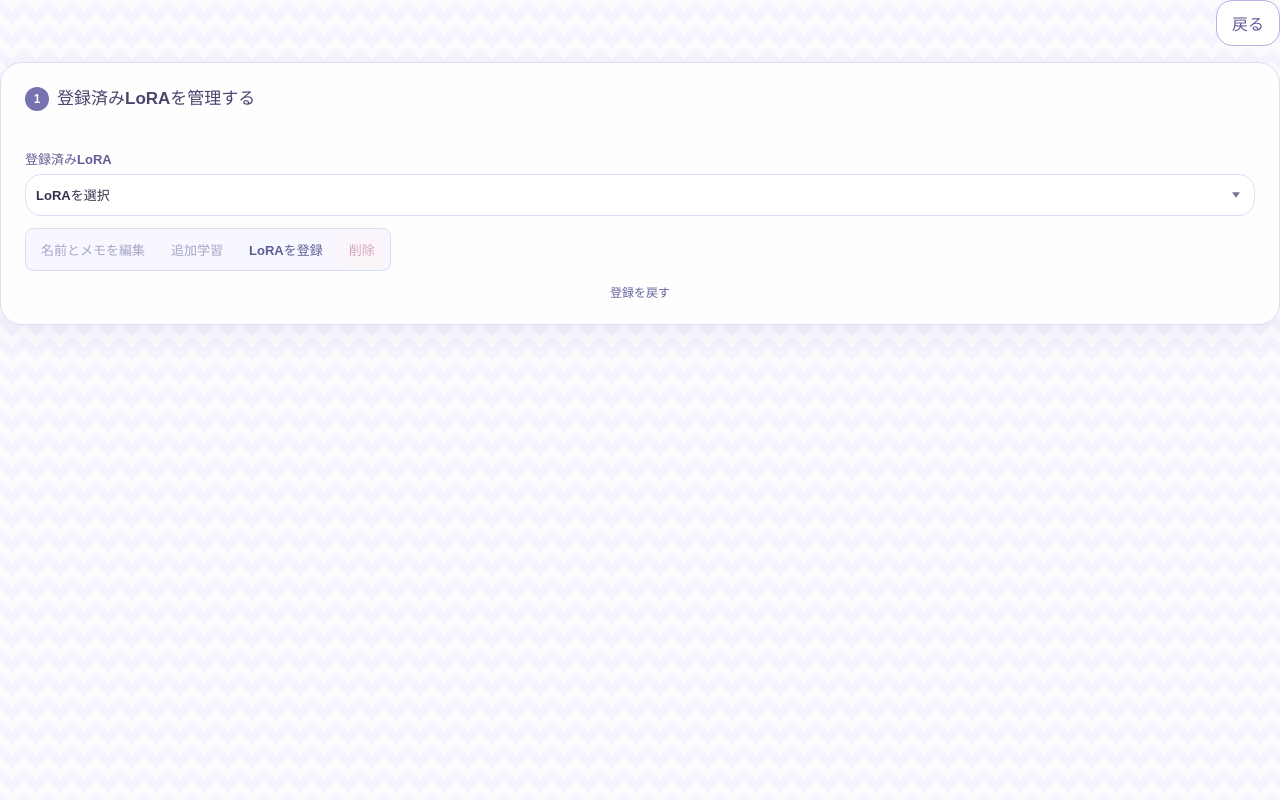
Test case: cancels before opening 登録を戻す
The image size is (1280, 800).
Select "穏やかな声" in the dropdown labelled "登録済みLoRA": (640, 195) [25,174,1255,216]
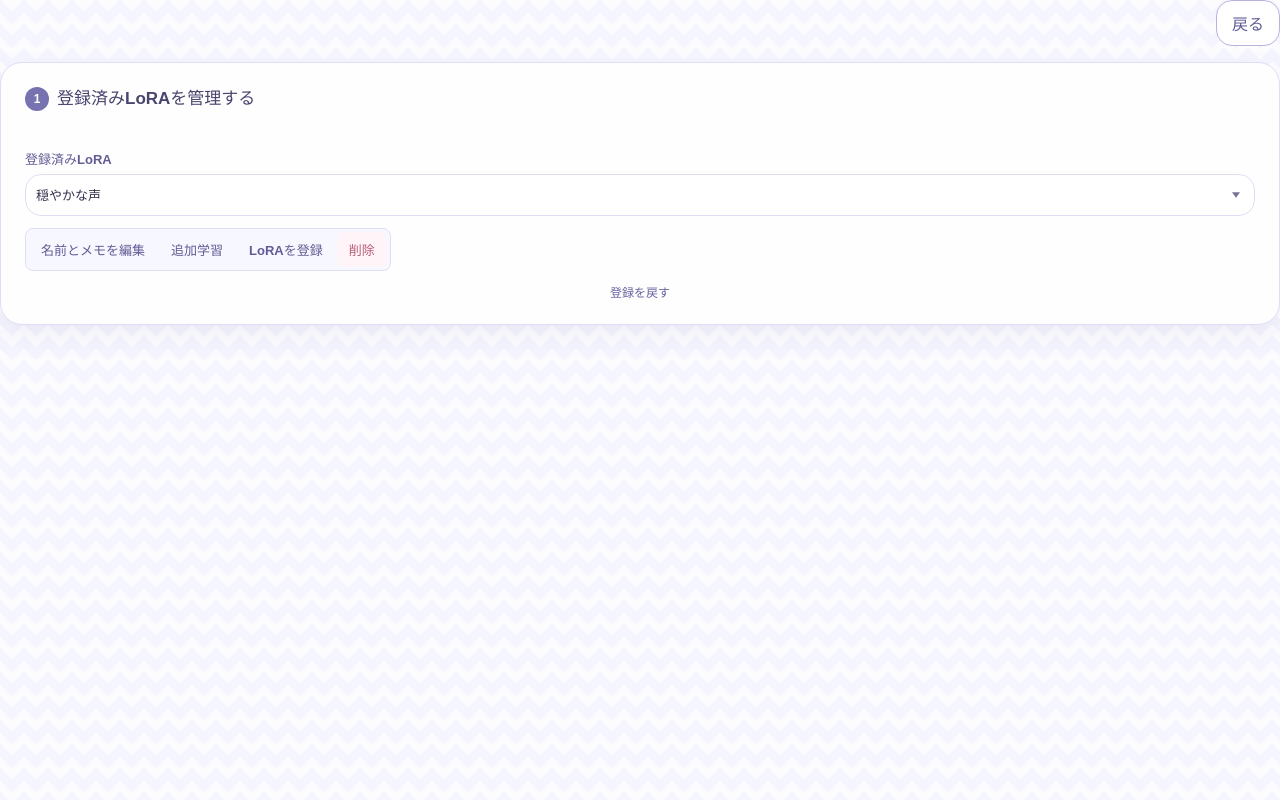
Click the button "削除": (362, 250) [337,232,387,267]
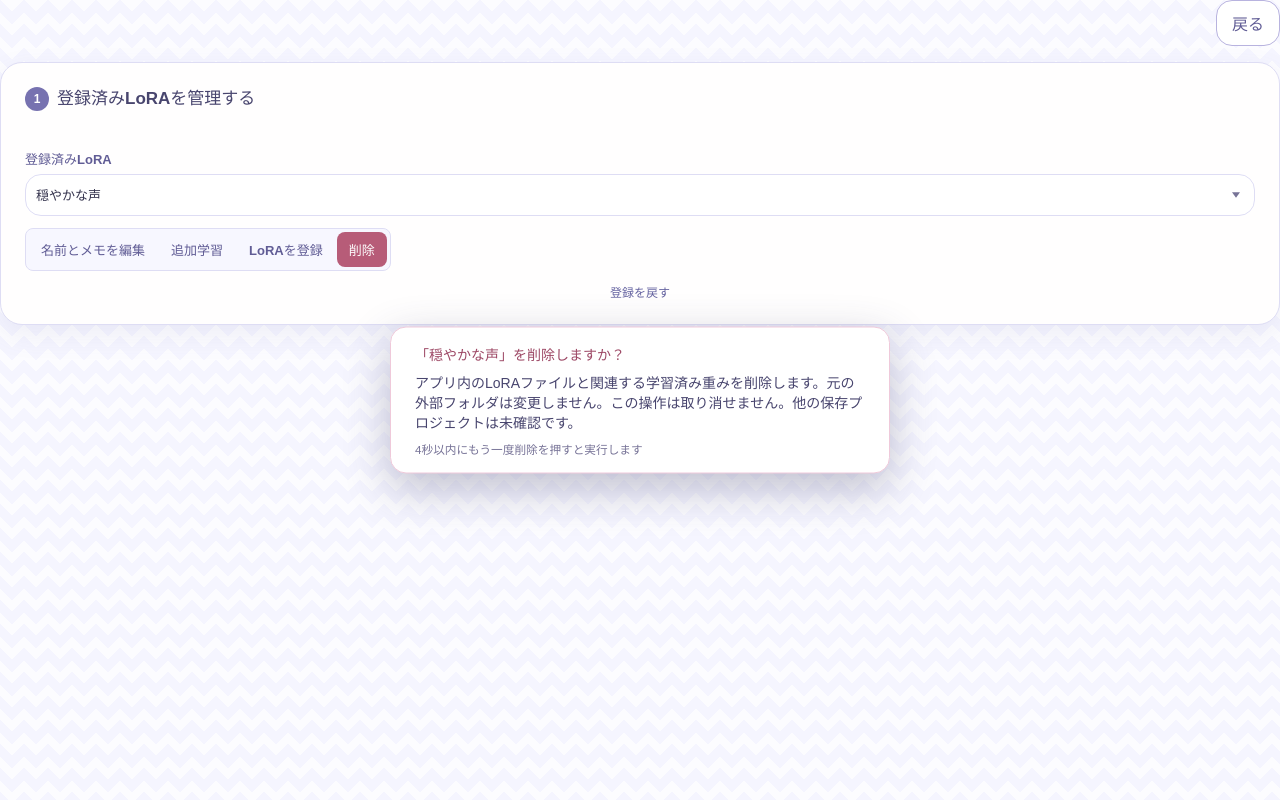
Click the button "登録を戻す": (640, 292) [25,283,1255,300]
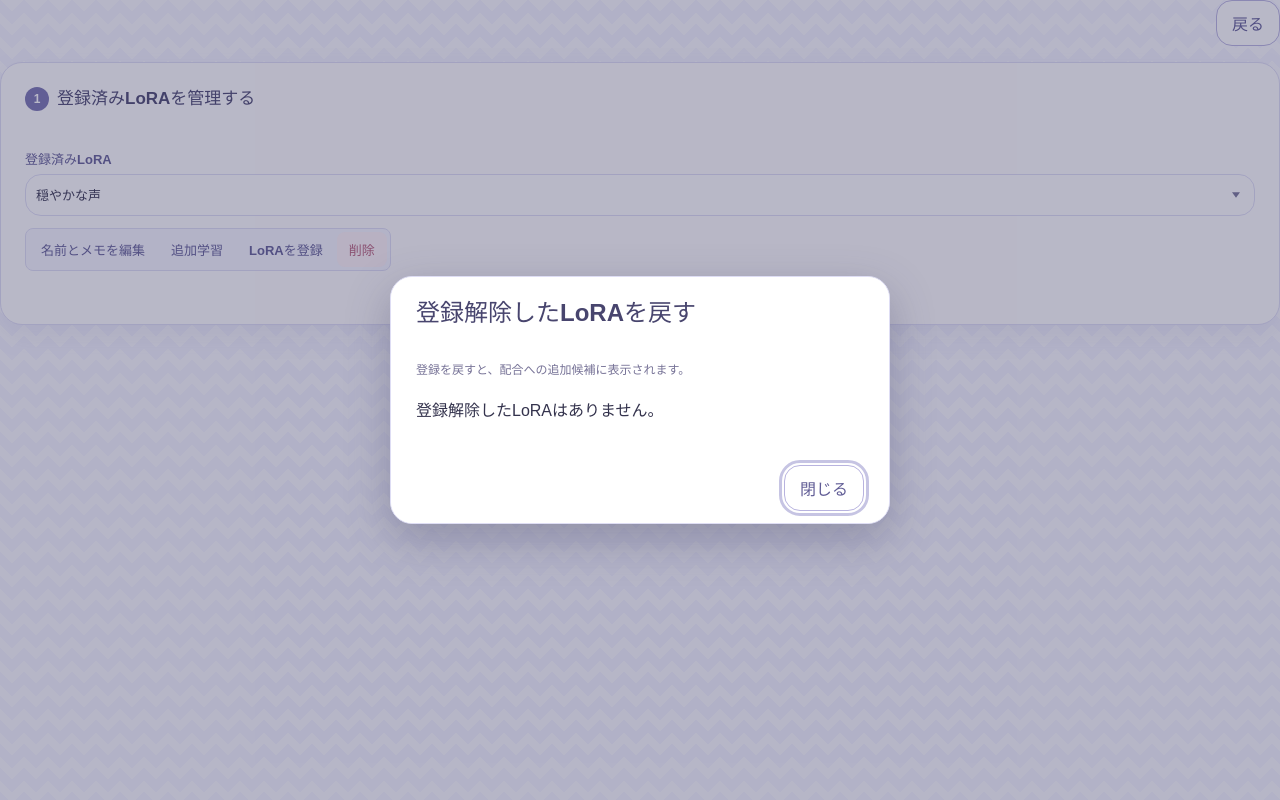
Now the message with class "centered-notice" is gone
Now the dialog is shown, box [390,276,890,524]
